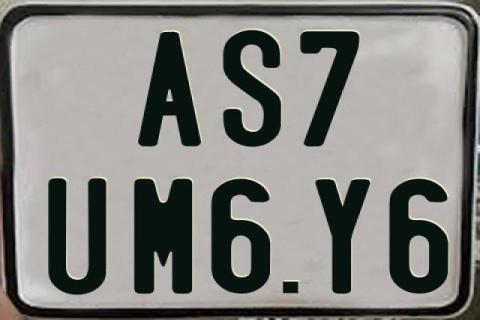0: (386, 178, 450, 296), (299, 30, 361, 146), (212, 177, 274, 293)
A: (137, 32, 206, 150)
M: (132, 176, 194, 295)
S: (220, 28, 281, 150)
U: (46, 176, 104, 295)
Y: (314, 179, 375, 297)
